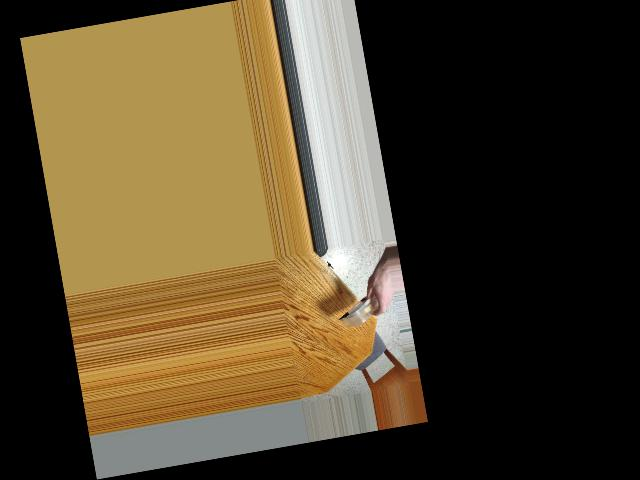cheese: (337, 294, 383, 329)
